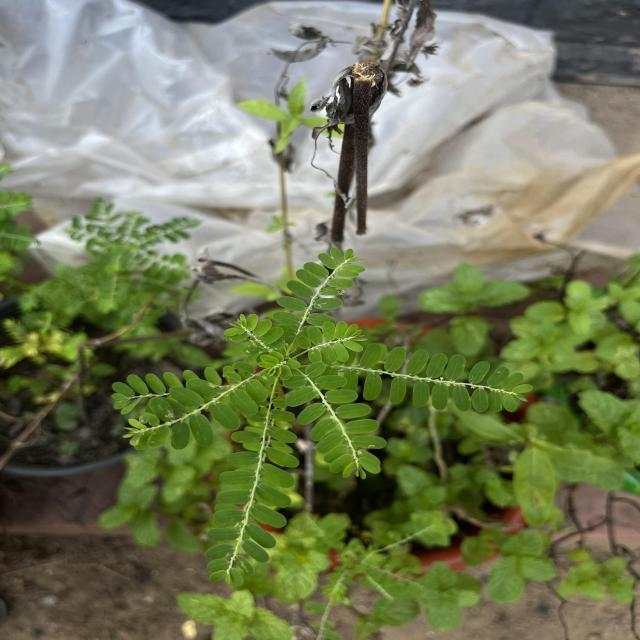Phyllanthus niruri: (200, 414, 303, 592), (276, 358, 391, 478), (111, 368, 272, 450), (356, 340, 534, 414), (264, 242, 368, 336), (288, 316, 368, 366)
